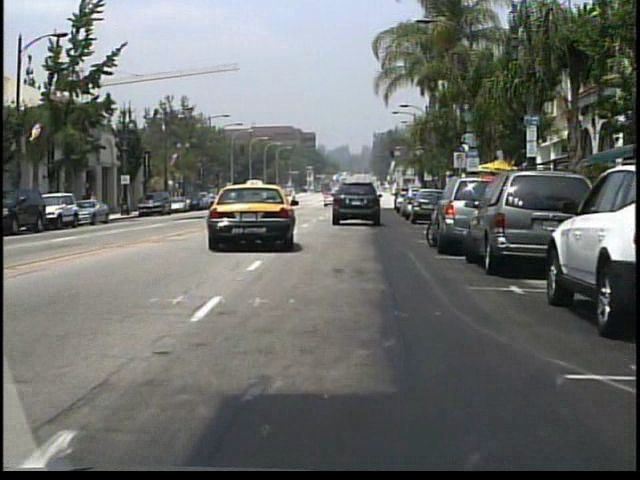person: (81, 188, 94, 218), (89, 190, 101, 217), (290, 189, 299, 206)
